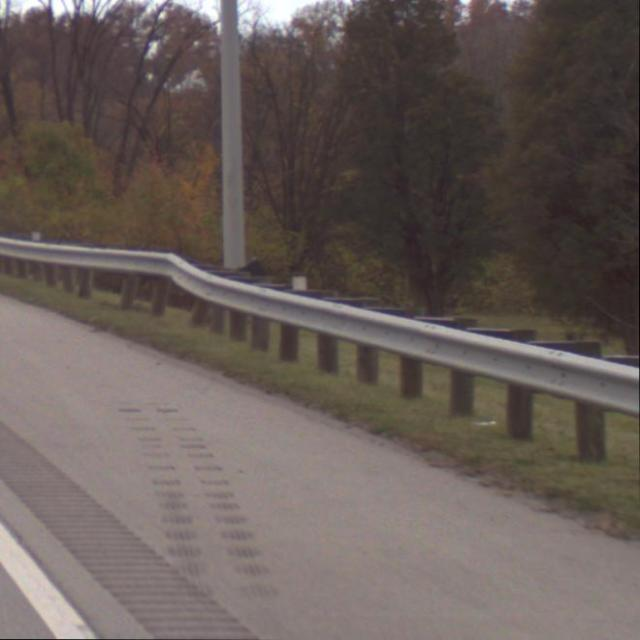Guard rail: (0, 230, 640, 482)
